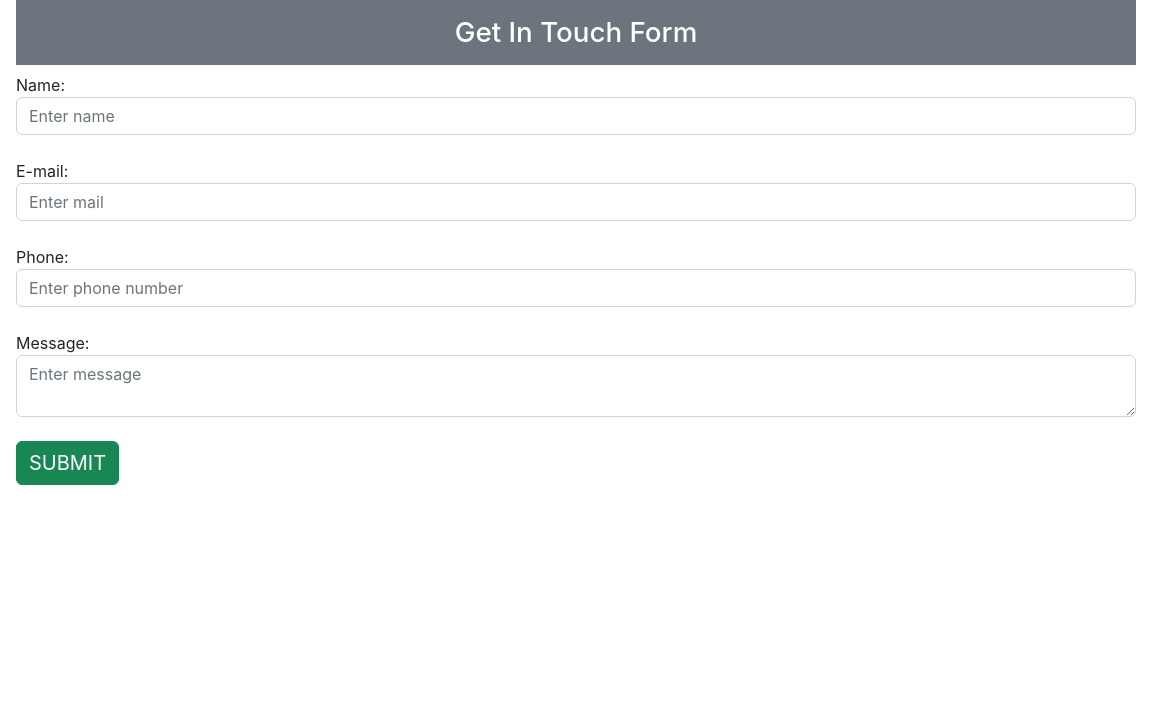
Test: ContactUsContent › submits the form with valid input
This screenshot has width=1152, height=720.
Type "anurag" into the field labelled "Name:" at (576, 116), box [16,97,1136,135]
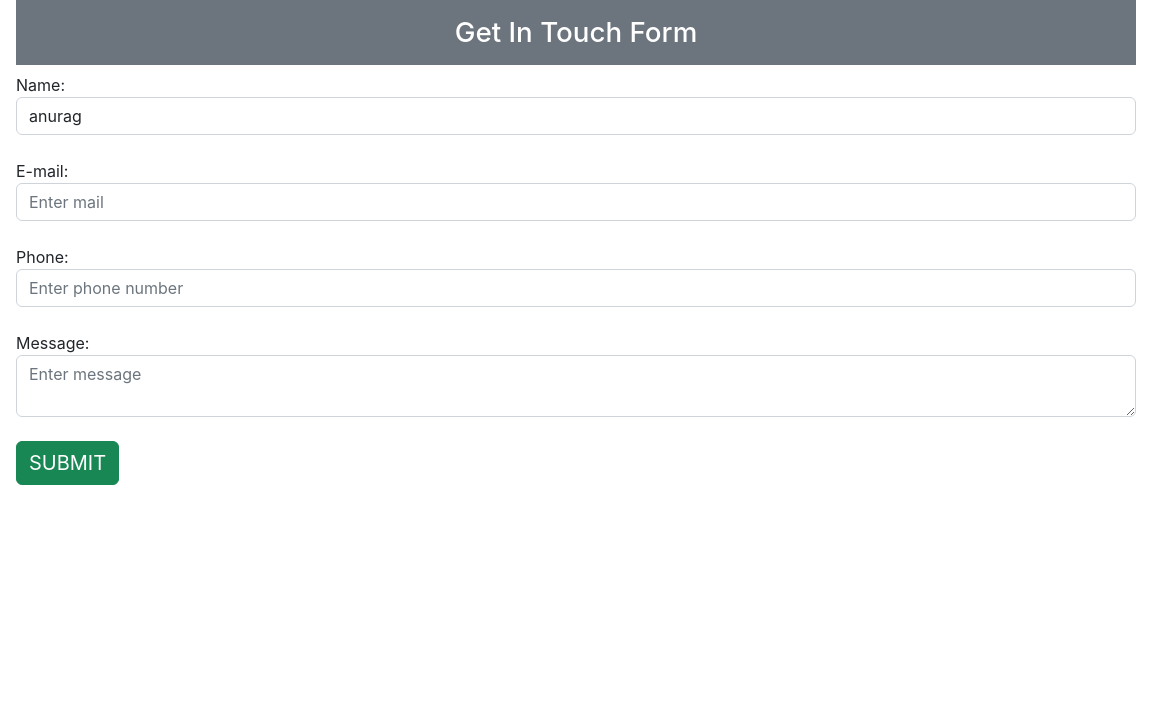
Type "anurag@gmail.com" into the field labelled "E-mail:" at (576, 202), box [16,183,1136,221]
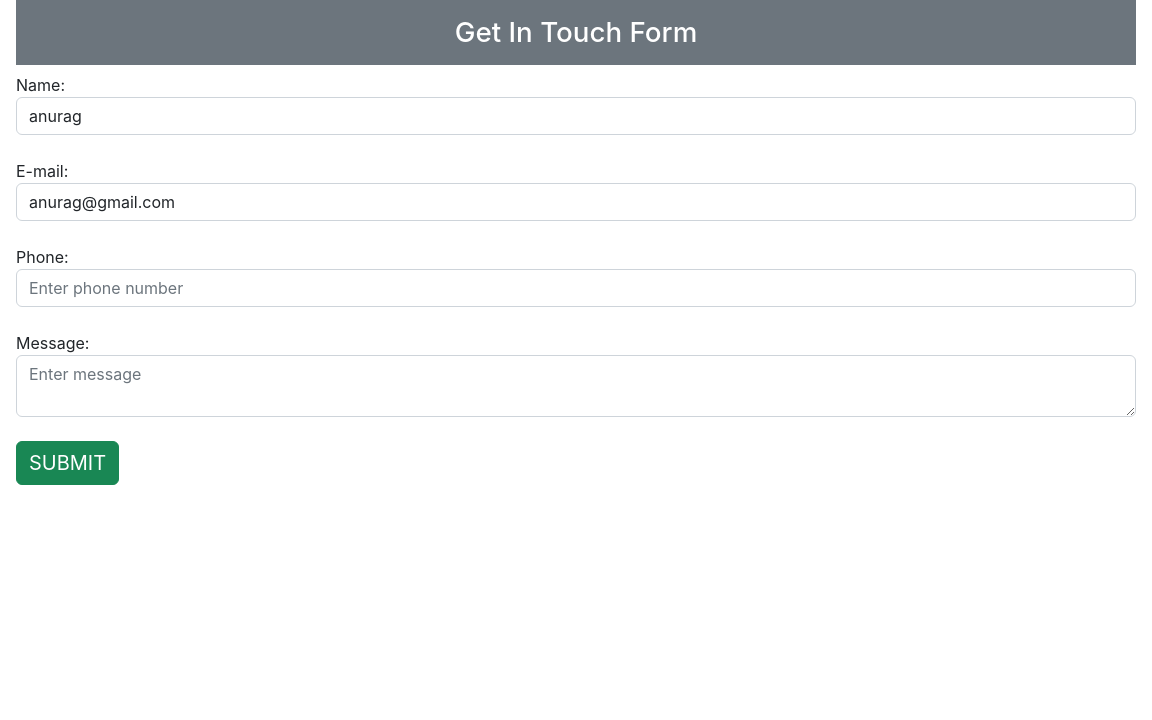
Type "2727272727" into the number field labelled "Phone:" at (576, 288), box [16,269,1136,307]
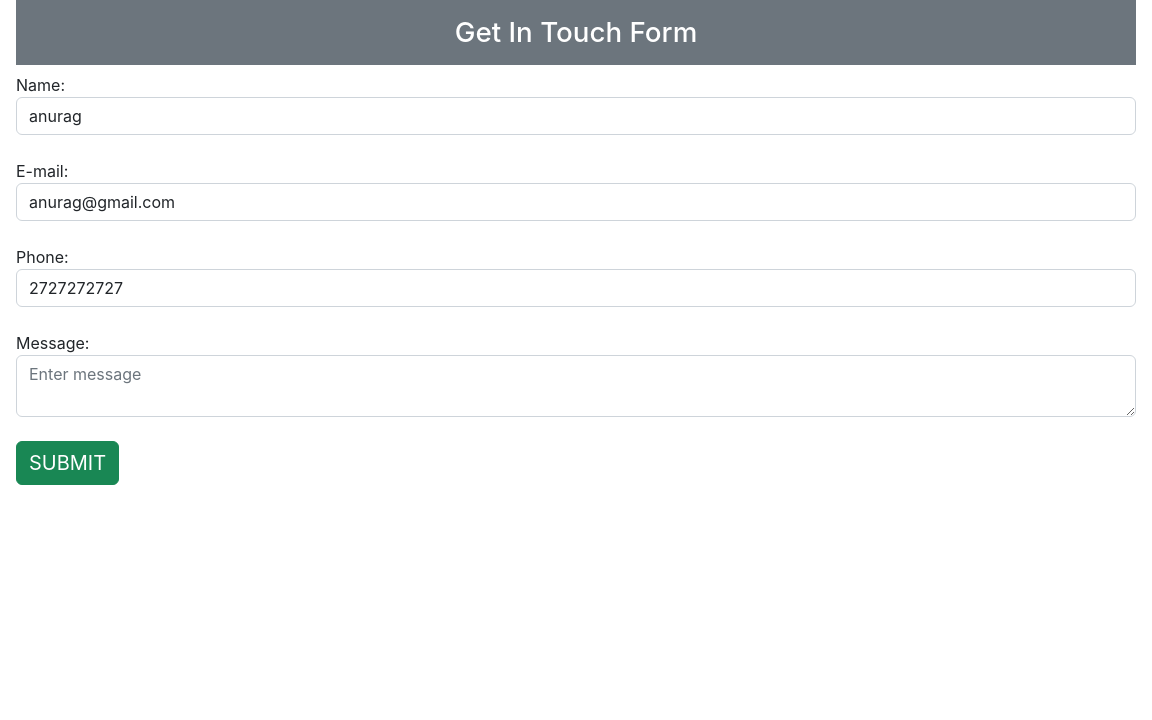
Type "Great App" into the text box labelled "Message:" at (576, 386), box [16,355,1136,417]
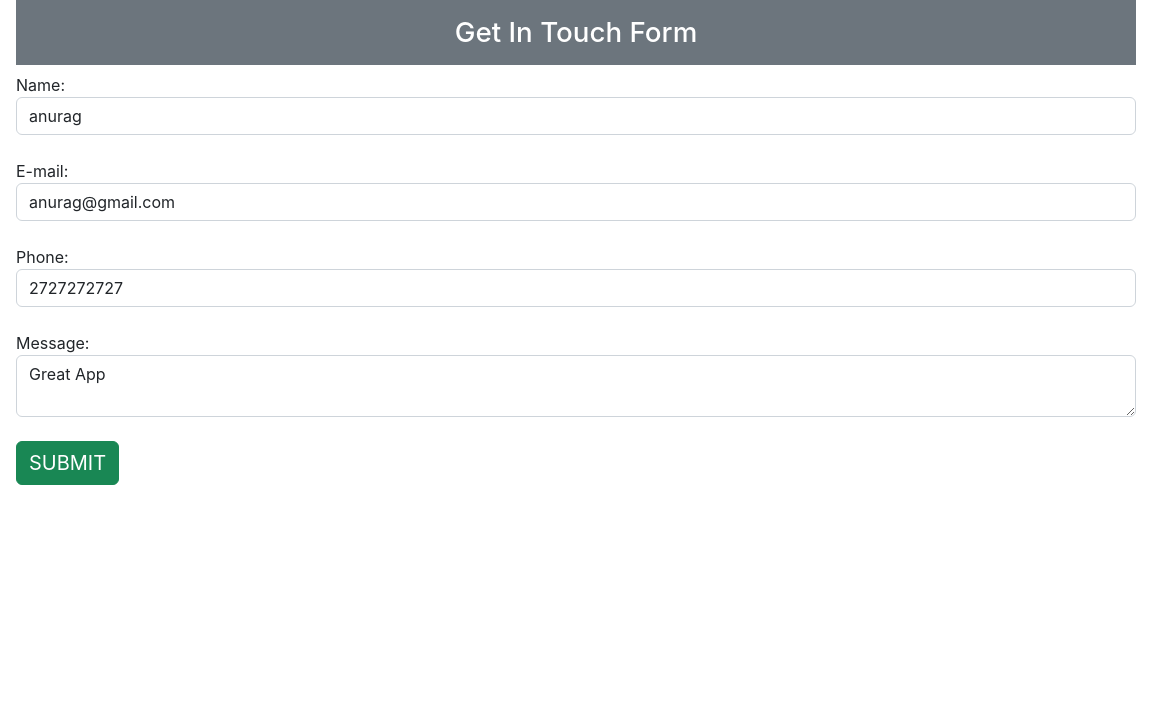
Click the button "Submit" at (68, 463), box [16,441,119,485]
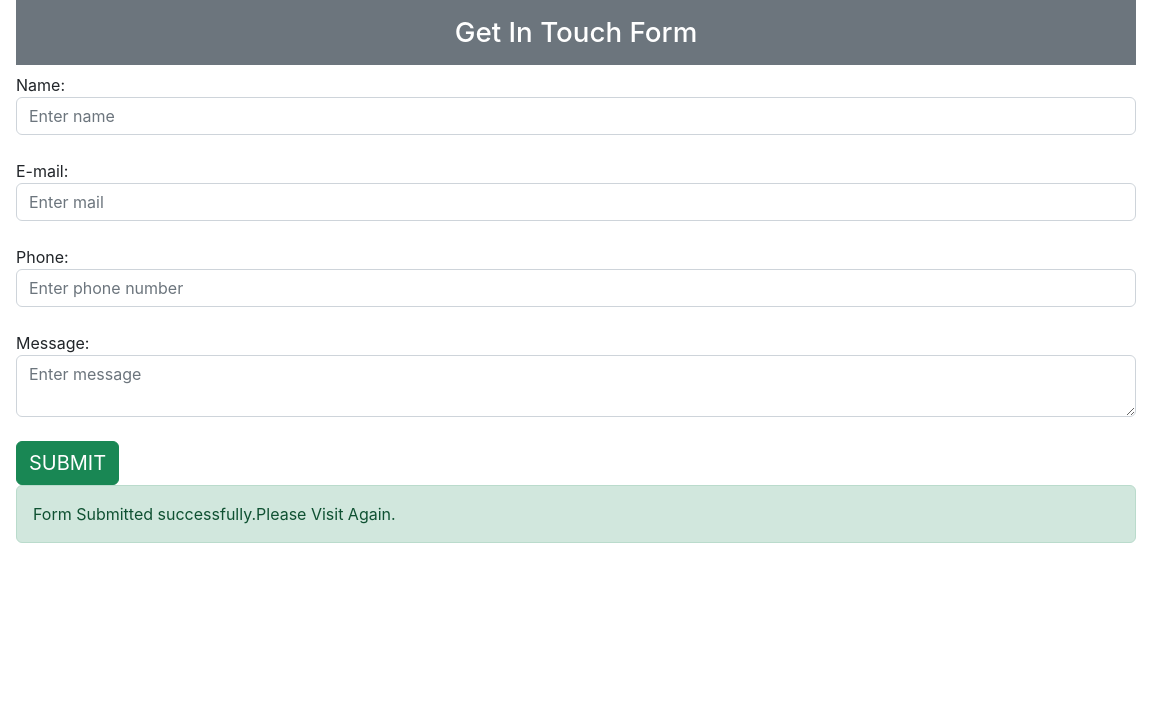
Expected: the text "Form Submitted successfully.Please Visit Again." is shown, [16,485,1136,543]
